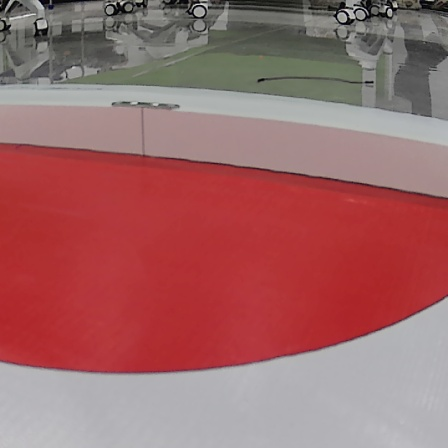red_base: (1, 134, 448, 392)
